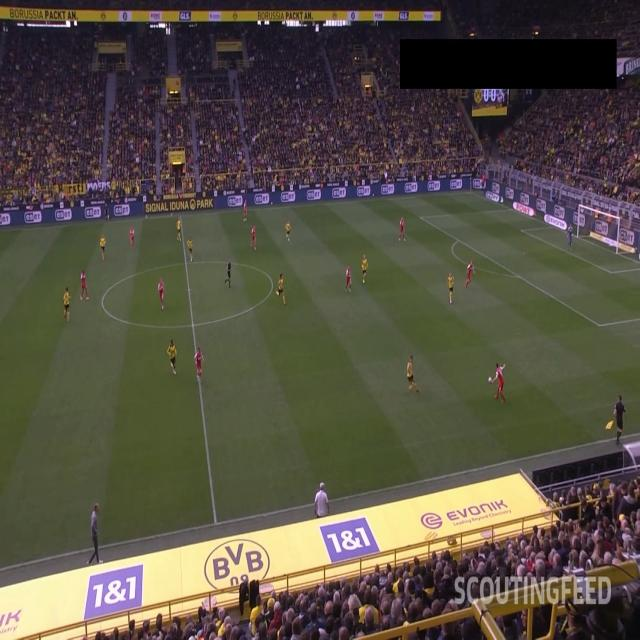ball: (485, 371, 494, 385)
f_player: (492, 364, 508, 402), (405, 355, 419, 395), (166, 341, 178, 377), (276, 272, 287, 307), (62, 287, 71, 323), (80, 272, 90, 302), (157, 279, 166, 311), (447, 274, 455, 307), (361, 255, 370, 284), (195, 349, 204, 378), (466, 261, 476, 286), (285, 218, 294, 244), (185, 234, 194, 260), (99, 234, 107, 262), (344, 265, 352, 292), (399, 218, 407, 243), (128, 228, 137, 250), (567, 225, 575, 249), (242, 199, 251, 218), (250, 226, 256, 250), (178, 219, 184, 236)
umpire: (604, 386, 629, 444), (103, 197, 113, 220), (225, 261, 233, 288)
